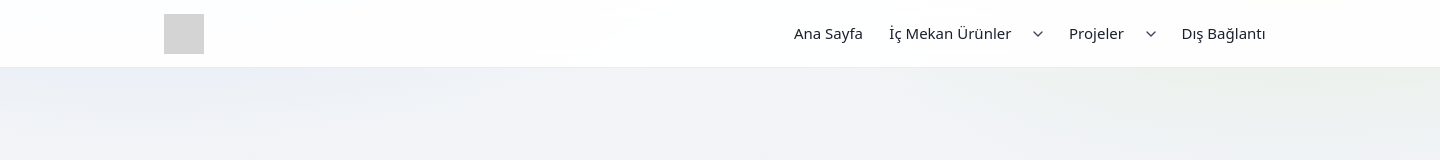
Test case: SiteHeader › keeps link and chevron separate for linked parents with children
Click the button named "Projeler alt menüsünü aç" at (1151, 34), box [1136, 19, 1166, 48]
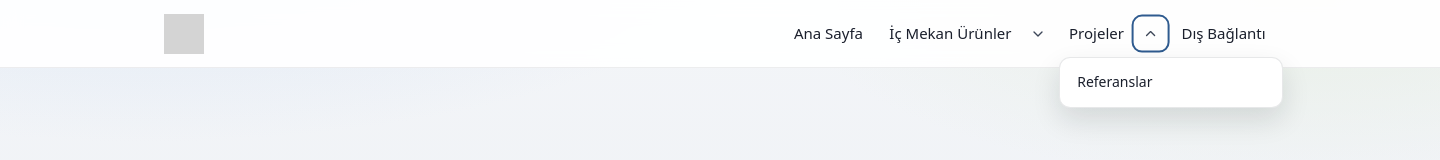
Expected: the link "Referanslar" is shown, [1077, 72, 1152, 91]
